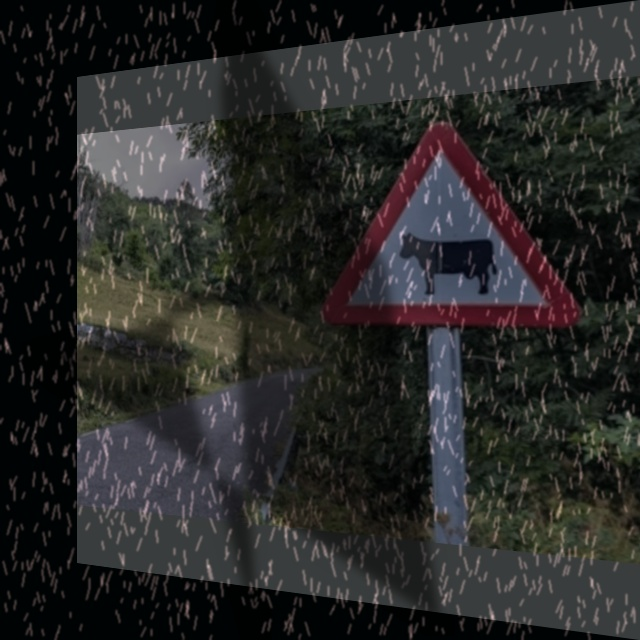Cattle: (338, 107, 572, 335)
